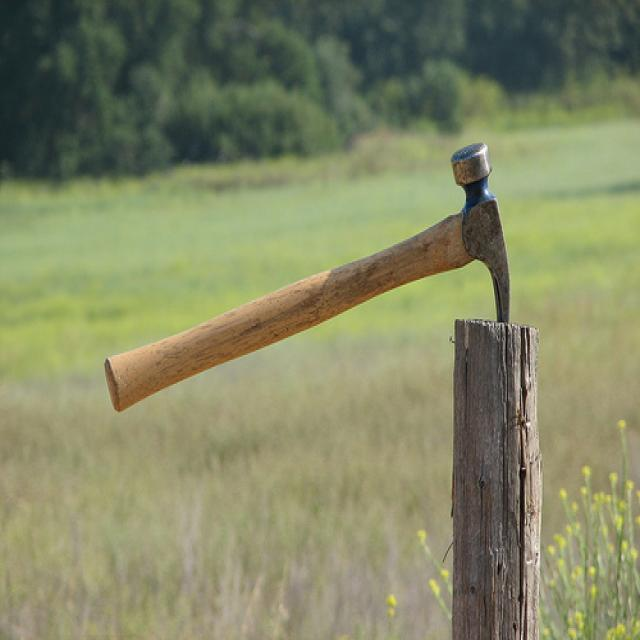hammer: (92, 126, 528, 426)
